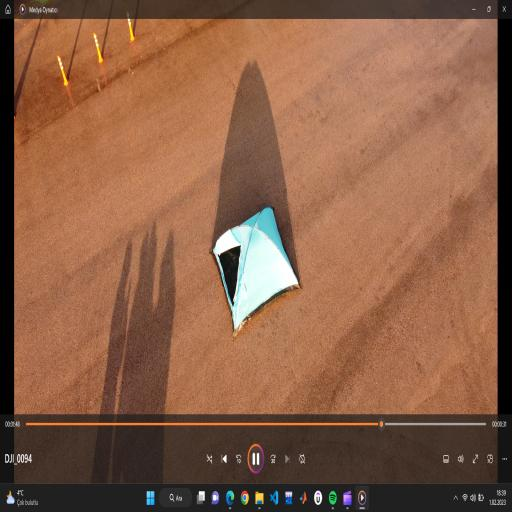tent: (208, 198, 301, 344)
